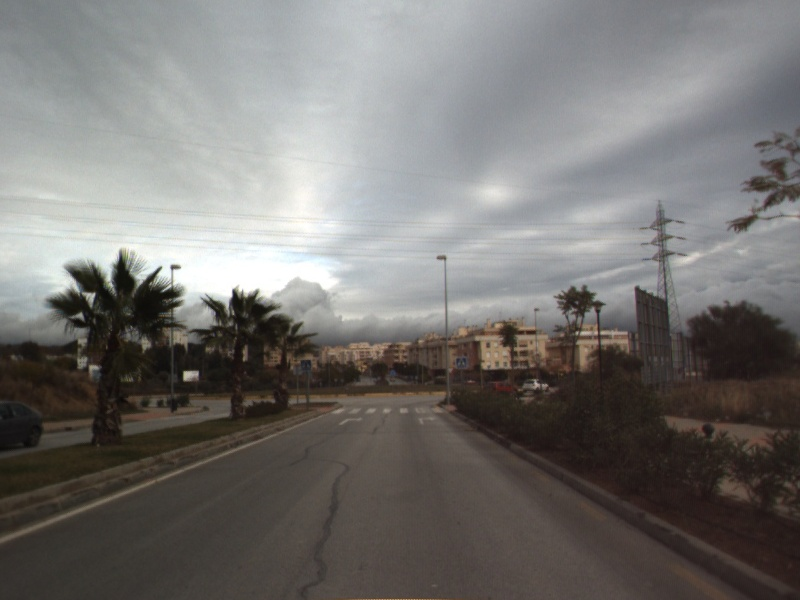RIGHT: (336, 414, 365, 428), (416, 414, 439, 427)
